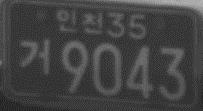0: (92, 42, 122, 96)
3: (158, 46, 187, 100), (106, 11, 125, 37)
4: (126, 44, 154, 96)
5: (128, 14, 147, 39)
9: (61, 40, 89, 93)
거: (19, 39, 52, 74)
인천_O: (55, 9, 104, 34)
